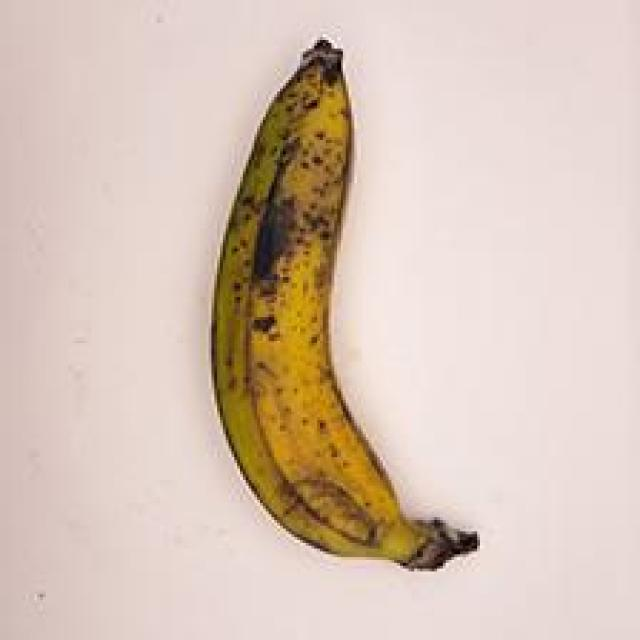Overripe: (190, 19, 502, 602)
